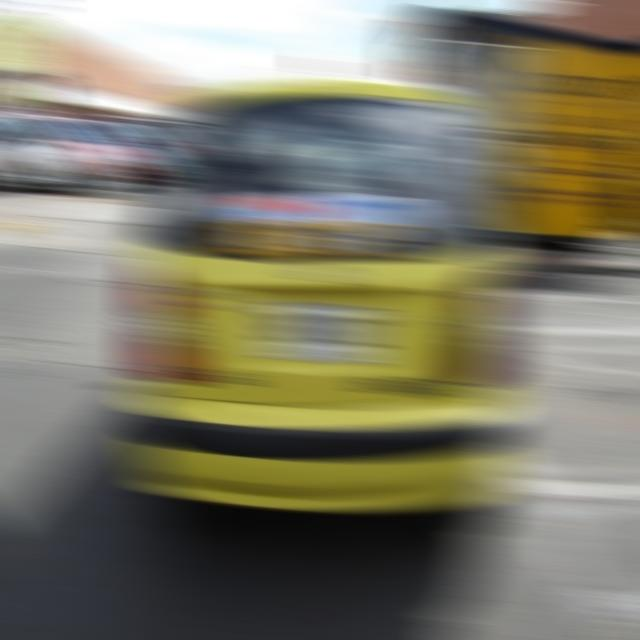Taxi: (140, 79, 562, 631)
